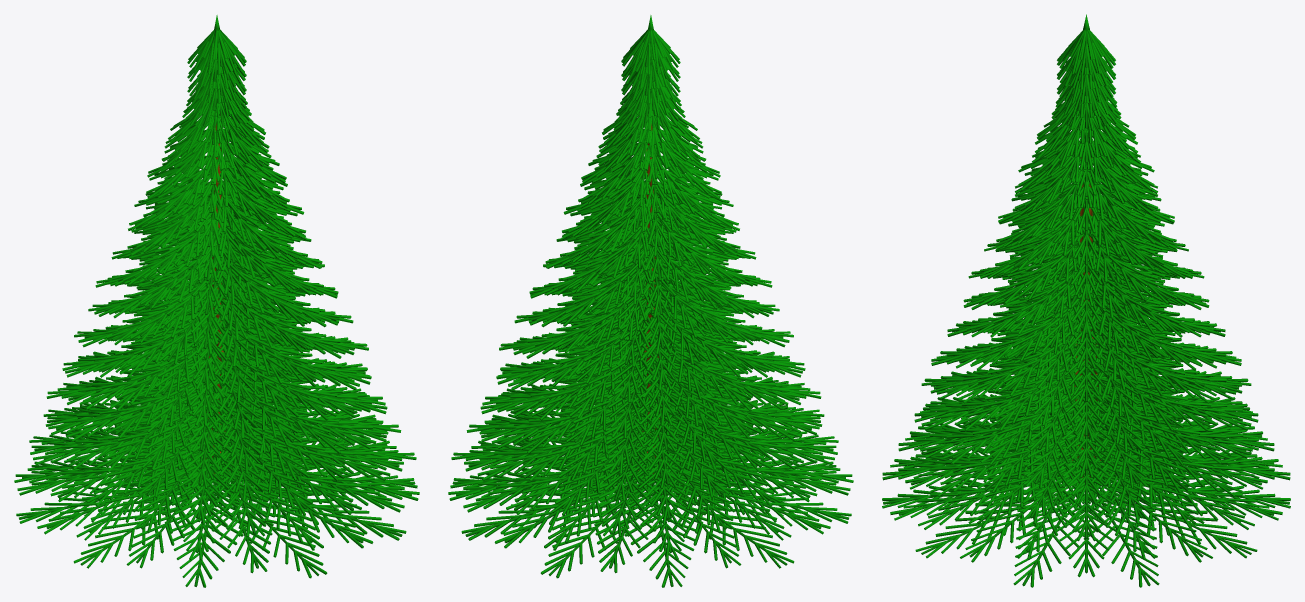
Rendered from fir_tree.obj.
3 renders of one model, left to right at view 1: azimuth 30°, elevation 25°; view 2: azimuth 150°, elevation 25°; view 3: azimuth 270°, elevation 25°, orthographic.
Bounding box in the file's own units: 25.71 × 34.11 × 25.75.
